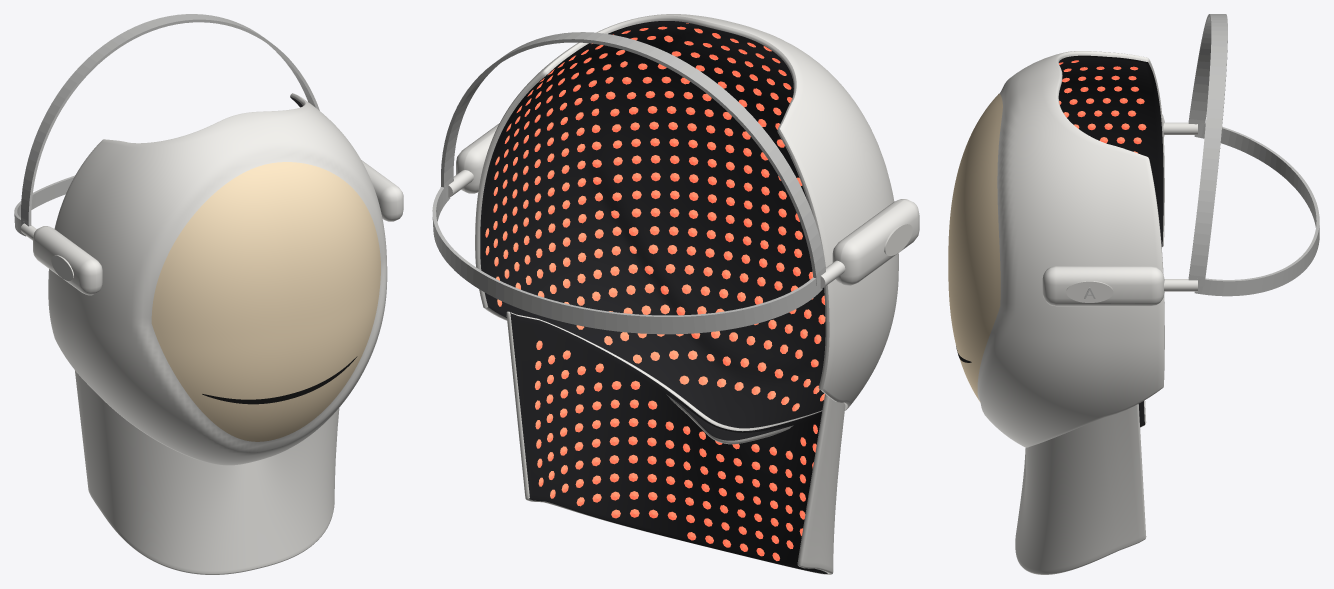
File: halo-mask.glb
3 renders of one model, left to right at view 1: azimuth 30°, elevation 25°; view 2: azimuth 150°, elevation 25°; view 3: azimuth 270°, elevation 25°, orthographic. The views are drawn at different scales.
Visible parts, largest first — view 1: Visor, Shell, NeckCover, Strap, Pods, MouthSlit; view 2: Shell, NeckCover, LEDs, Strap, Pods; view 3: Shell, NeckCover, Visor, Strap, Pods, LEDs.
Part boxes in pixels (bbox=[...]): Visor: bbox=[151, 162, 380, 441]; Shell: bbox=[48, 93, 387, 465]; NeckCover: bbox=[75, 370, 339, 574]; Strap: bbox=[14, 14, 319, 236]; Pods: bbox=[20, 160, 403, 295]; MouthSlit: bbox=[202, 356, 357, 404]; Shell: bbox=[475, 14, 898, 444]; NeckCover: bbox=[506, 311, 845, 574]; LEDs: bbox=[485, 23, 825, 560]; Strap: bbox=[432, 32, 825, 334]; Pods: bbox=[440, 123, 919, 288]; Shell: bbox=[977, 51, 1164, 447]; NeckCover: bbox=[1015, 400, 1146, 574]; Visor: bbox=[948, 94, 1002, 401]; Strap: bbox=[1188, 14, 1319, 296]; Pods: bbox=[1042, 114, 1197, 306]; LEDs: bbox=[1059, 60, 1146, 153].
Bounding box in the file's own units: 1.85 × 2.6 × 1.7.
